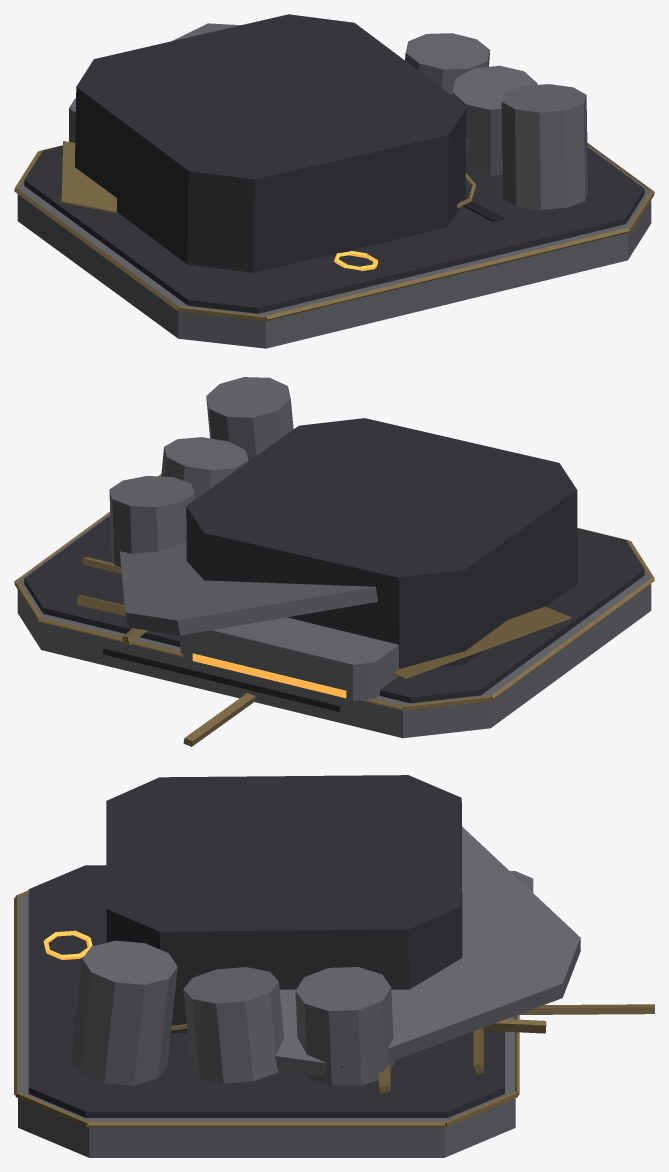
Rendered from Wreck_Aegis_Refinery.fbx.
3 renders of one model, top to bottom at view 1: azimuth 30°, elevation 25°; view 2: azimuth 150°, elevation 25°; view 3: azimuth 270°, elevation 25°, orthographic. The views are drawn at different scales.
Parts seen in each view (by area): view 1: Wreck_Aegis_Refinery; view 2: Wreck_Aegis_Refinery; view 3: Wreck_Aegis_Refinery.
Boxes of the visible parts, box(x1,y1,x2,y2) form: Wreck_Aegis_Refinery: box(14, 14, 654, 348); Wreck_Aegis_Refinery: box(14, 377, 654, 746); Wreck_Aegis_Refinery: box(14, 775, 654, 1157).
Bounding box in the file's own units: 3.56 × 0.9409 × 3.61.
